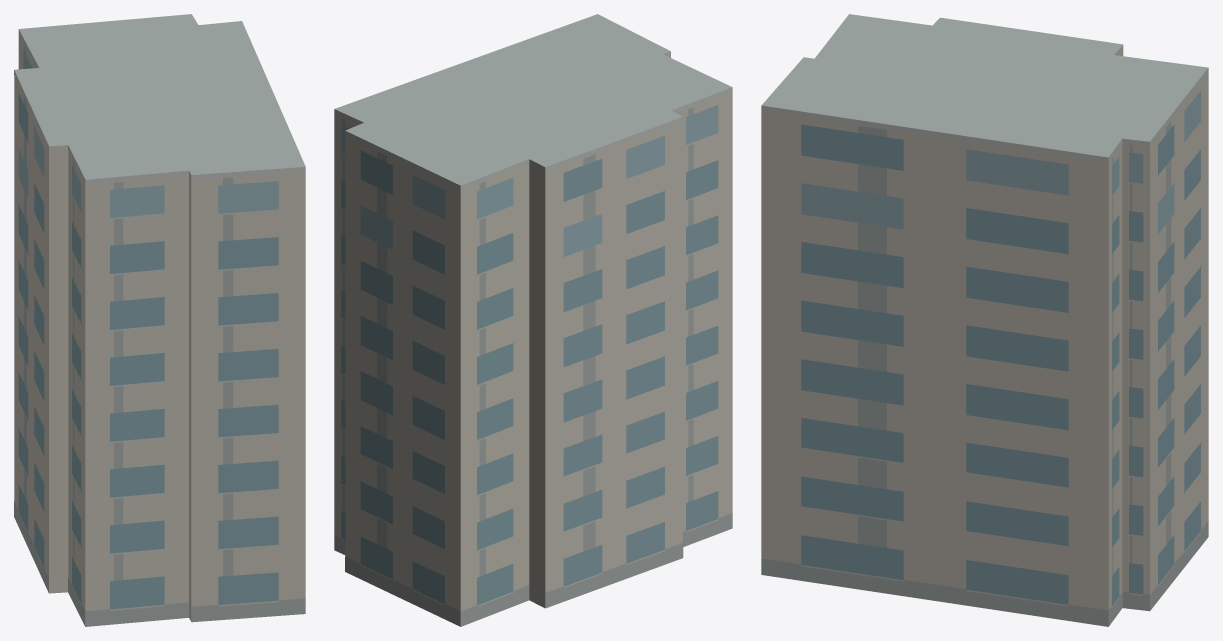
File: survey-upis-32886759.glb
The picture shows the model from 3 angles, left to right: view 1: azimuth 30°, elevation 25°; view 2: azimuth 150°, elevation 25°; view 3: azimuth 270°, elevation 25°; orthographic projection. The views are drawn at different scales.
Visible parts, largest first — view 1: survey-upis-32886759.tmp; view 2: survey-upis-32886759.tmp; view 3: survey-upis-32886759.tmp.
Part boxes in pixels (x1,y1,x2,y2): survey-upis-32886759.tmp: (14, 14, 305, 626); survey-upis-32886759.tmp: (334, 14, 732, 626); survey-upis-32886759.tmp: (761, 14, 1208, 626).
Size of the model in its own units: 13.13 by 20 by 17.28.
